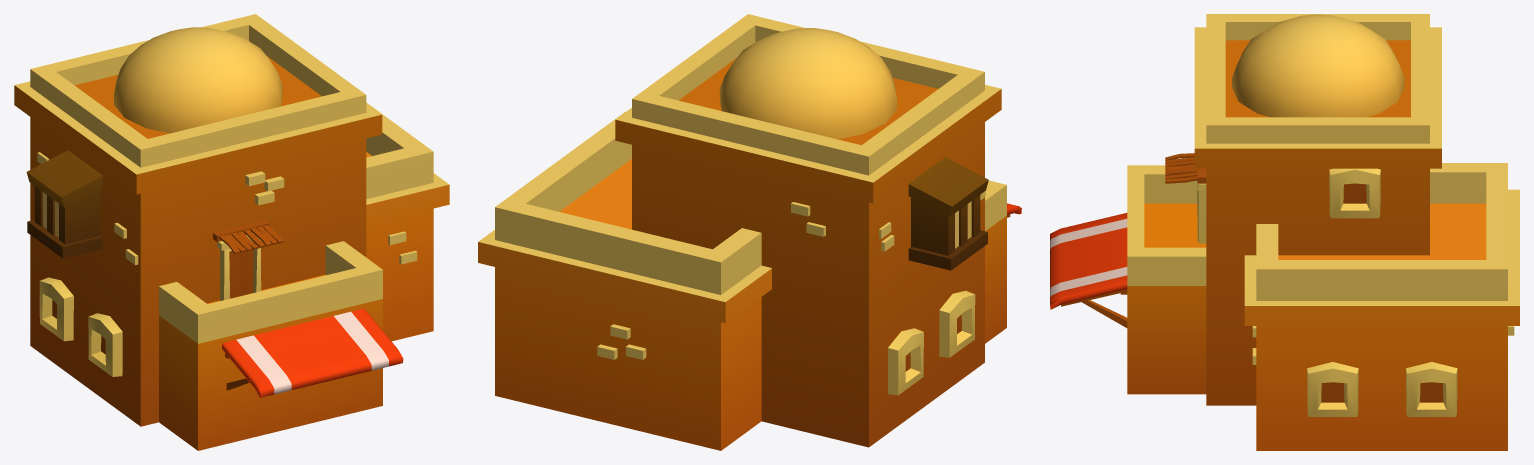
Rendered from Building_Desert_House_A_03.fbx.
3 renders of one model, left to right at view 1: azimuth 30°, elevation 25°; view 2: azimuth 150°, elevation 25°; view 3: azimuth 270°, elevation 25°, orthographic. The views are drawn at different scales.
Parts seen in each view (by area): view 1: Building_Desert_House_A_03; view 2: Building_Desert_House_A_03; view 3: Building_Desert_House_A_03.
Part boxes in pixels (box(x1,y1,x2,y2)): Building_Desert_House_A_03: box(14, 14, 449, 450); Building_Desert_House_A_03: box(478, 14, 1021, 450); Building_Desert_House_A_03: box(1050, 14, 1519, 450).
Size of the model in its own units: 487 by 405 by 528.
